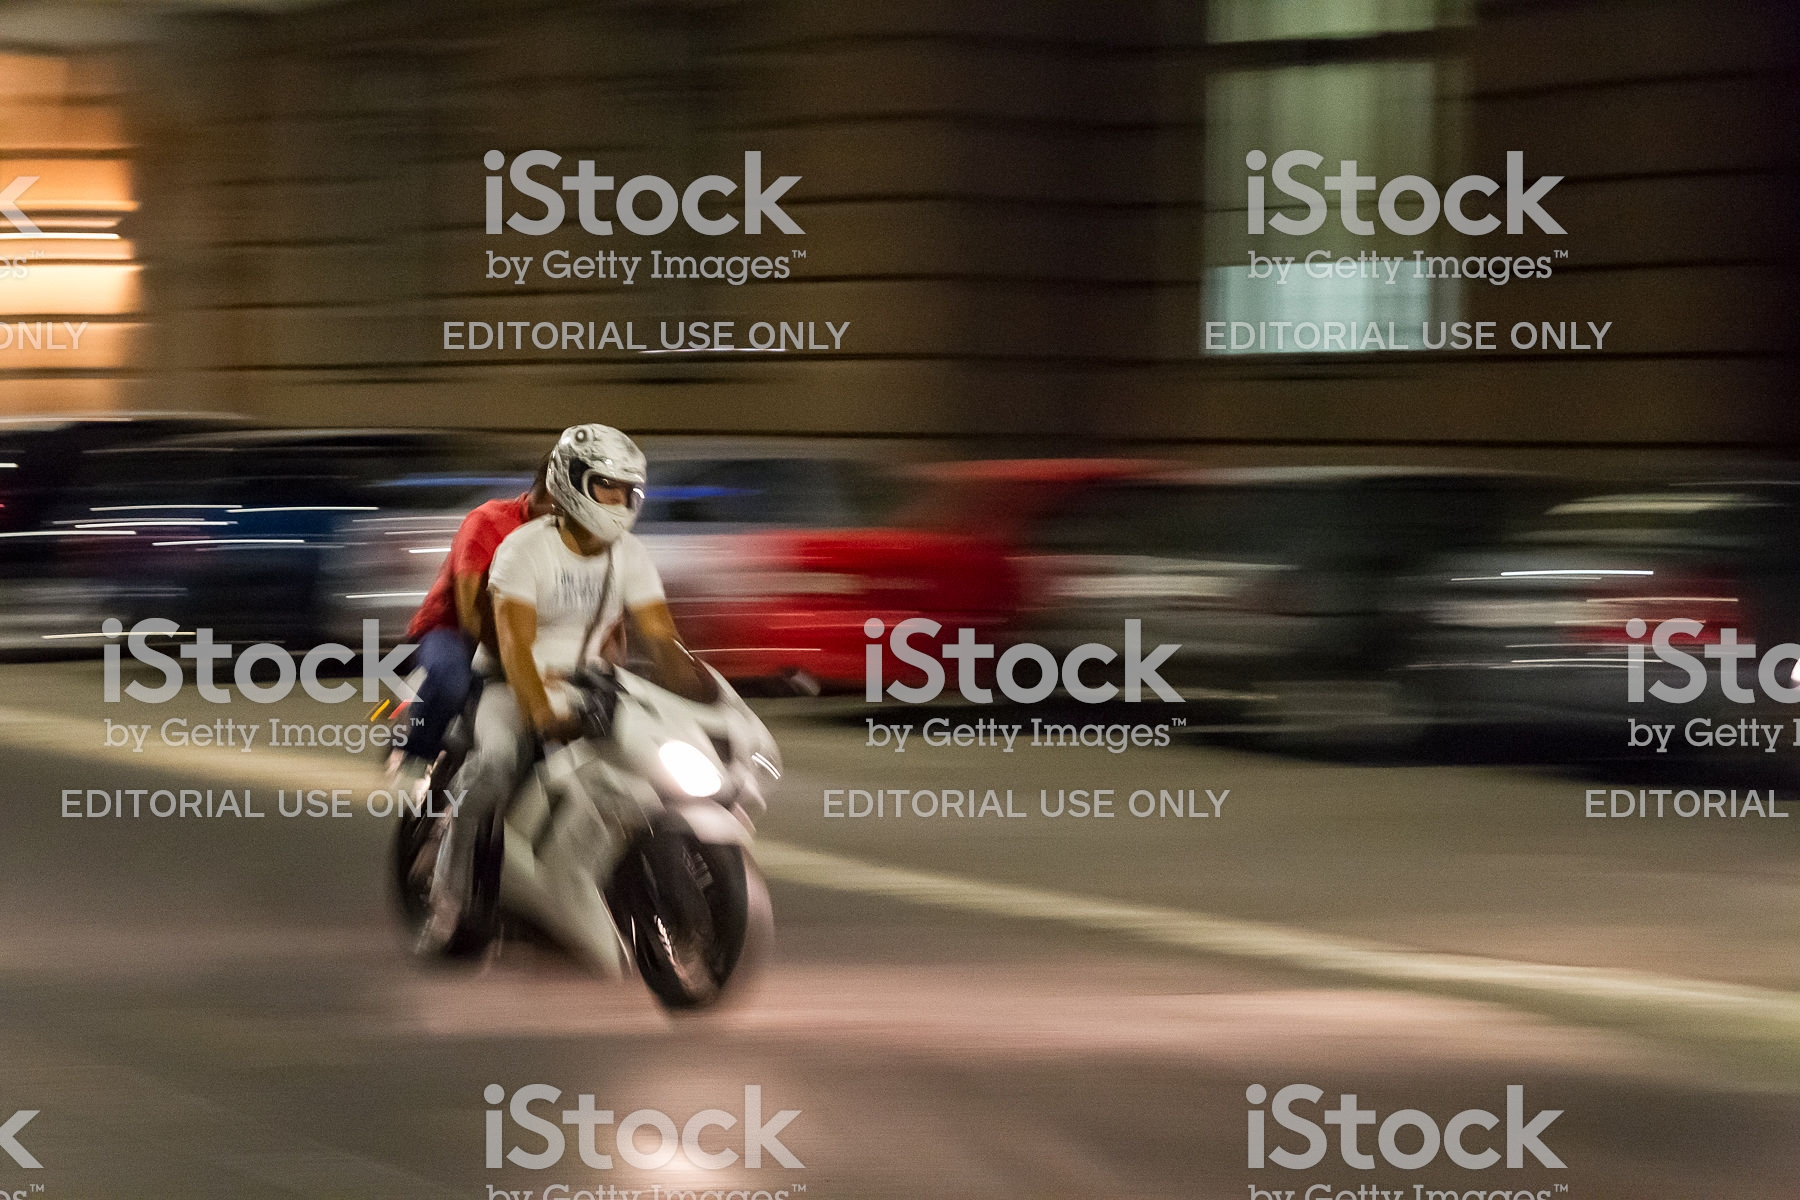helmet: (540, 433, 650, 530)
